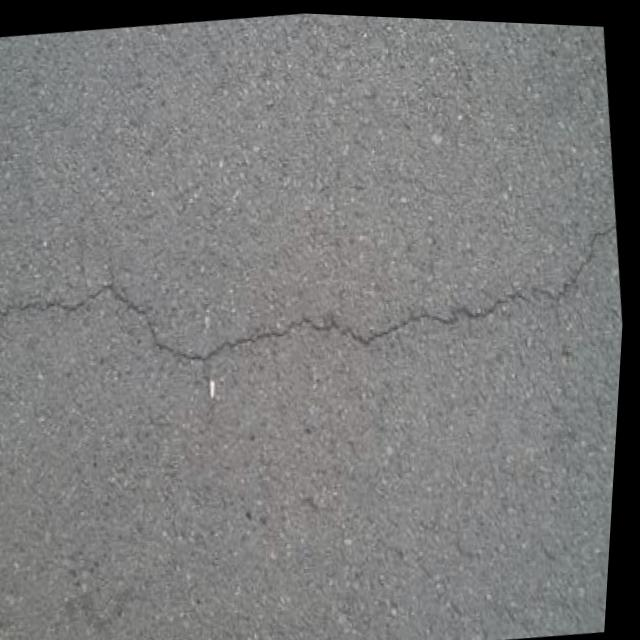Crack: (0, 158, 633, 433)
